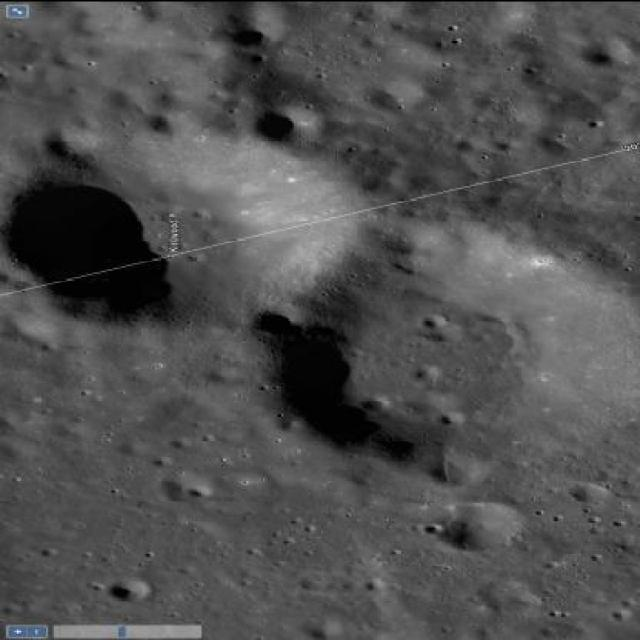crater: (262, 222, 638, 468), (0, 131, 366, 329), (428, 502, 526, 552), (255, 108, 317, 142)
